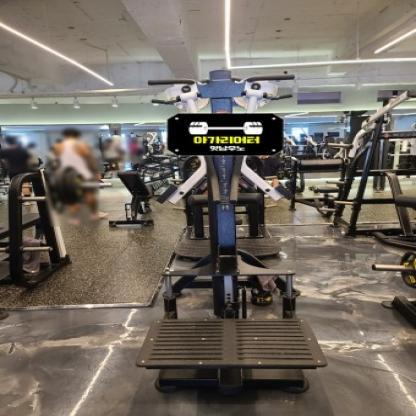lateral raises machine: (141, 76, 324, 391)
